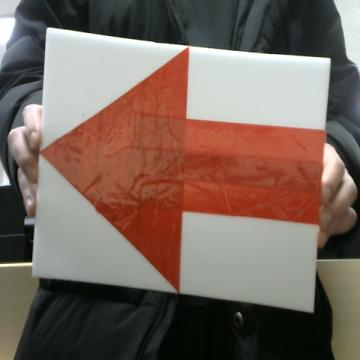red_left: (40, 48, 324, 290)
